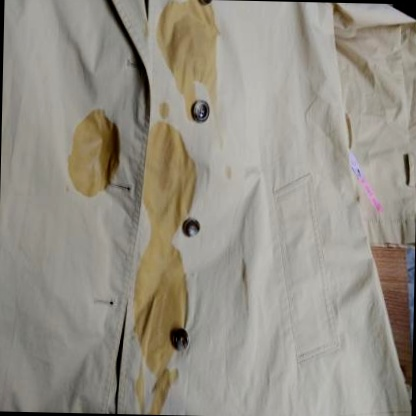coffee: (143, 131, 195, 220), (136, 251, 171, 345), (164, 7, 213, 74), (71, 120, 119, 187)
